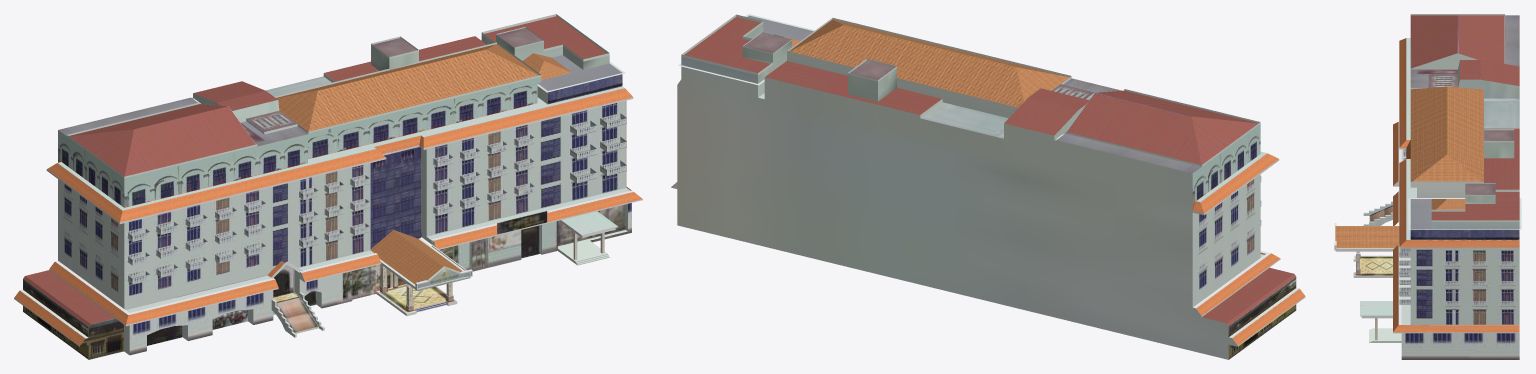
3 renders of one model, left to right at view 1: azimuth 30°, elevation 25°; view 2: azimuth 150°, elevation 25°; view 3: azimuth 270°, elevation 25°, orthographic. The views are drawn at different scales.
Visible parts, largest first — view 1: HN368___TQT_2_Hotel; view 2: HN368___TQT_2_Hotel; view 3: HN368___TQT_2_Hotel.
Part boxes in pixels (left/top/right/bottom): HN368___TQT_2_Hotel: left=14, top=14, right=642, bottom=359; HN368___TQT_2_Hotel: left=671, top=14, right=1305, bottom=359; HN368___TQT_2_Hotel: left=1334, top=14, right=1521, bottom=359.
Size of the model in its own units: 107 by 35.67 by 38.33.
Materials: 1 (1 with a texture image).
